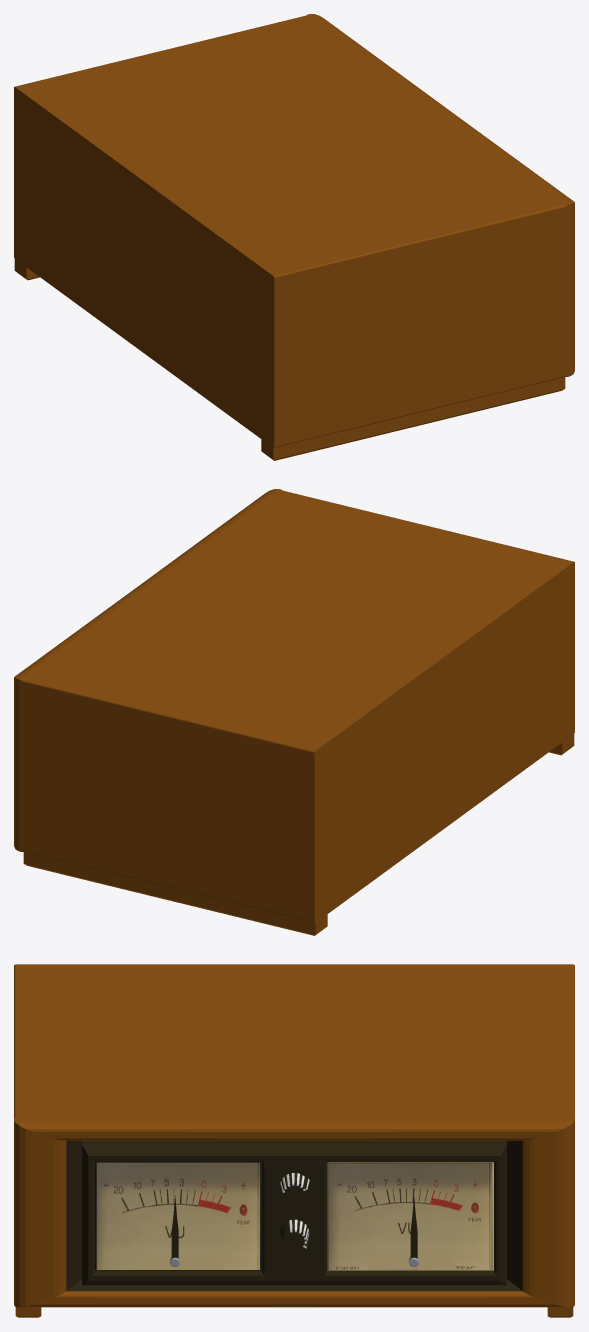
Rendered from vumeter.fbx.
The picture shows the model from 3 angles, top to bottom: view 1: azimuth 30°, elevation 25°; view 2: azimuth 150°, elevation 25°; view 3: azimuth 270°, elevation 25°; orthographic projection. The views are drawn at different scales.
Visible parts, largest first — view 1: box; view 2: box; view 3: box.
Part boxes in pixels (box(x1,y1,x2,y2)): box: box(14, 14, 574, 460); box: box(14, 489, 574, 935); box: box(14, 964, 574, 1317).
Size of the model in its own units: 13.82 by 7.61 by 19.26.
Materials: 5 (1 with a texture image).
